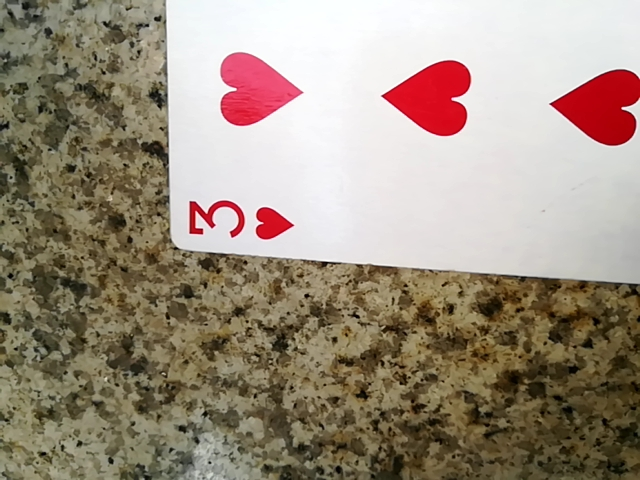hx 3: (160, 2, 640, 286)
